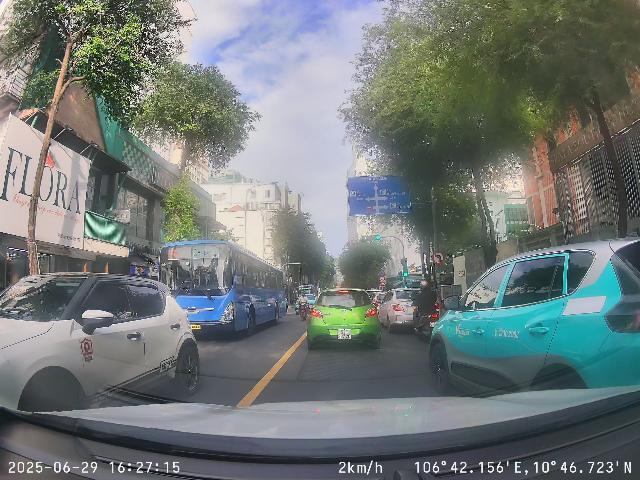123a-cam-re-trai: (432, 251, 444, 264)
